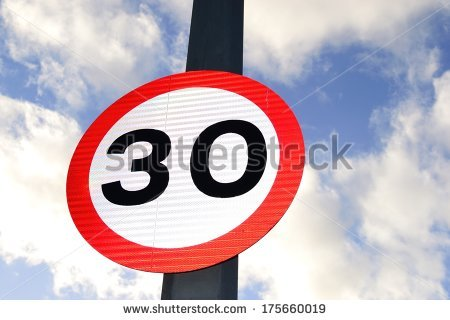Speed_limit_30km: (66, 70, 304, 272)
